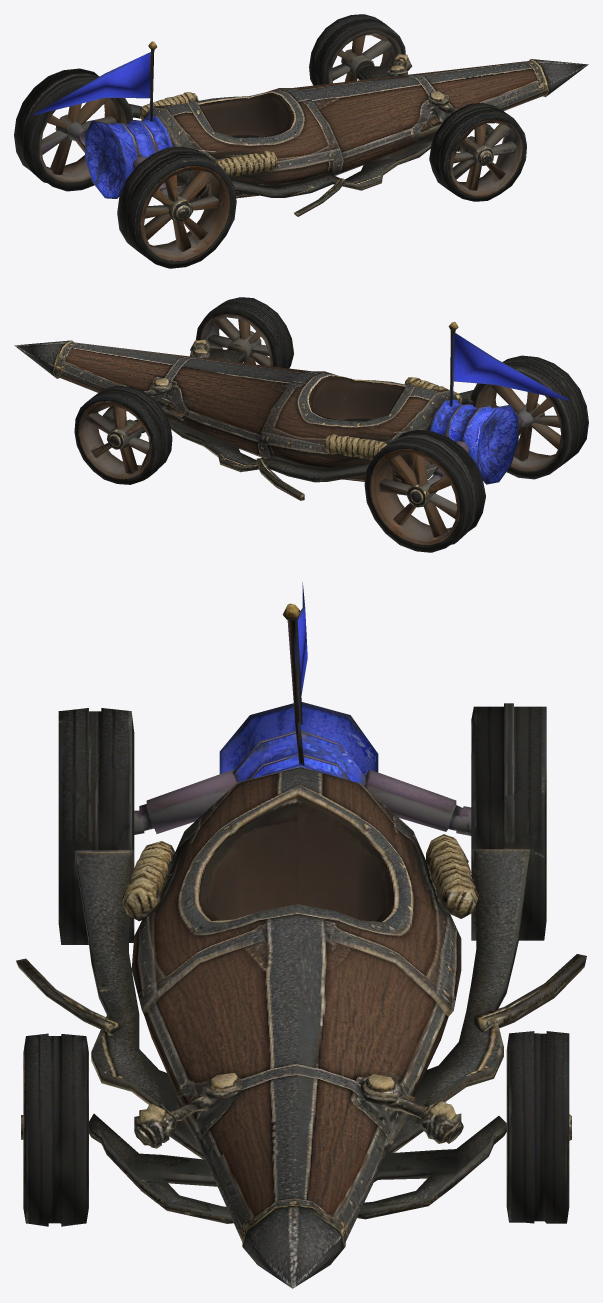
File: tripo_convert_6144d475-05fc-4dde-a6d0-bc1de5444136.fbx
3 views of the same model, one above another, from view 1: azimuth 30°, elevation 25°; view 2: azimuth 150°, elevation 25°; view 3: azimuth 270°, elevation 25° (orthographic). The views are drawn at different scales.
Parts seen in each view (by area): view 1: tripo_node_6144d475; view 2: tripo_node_6144d475; view 3: tripo_node_6144d475.
Part boxes in pixels (bbox=[...]): tripo_node_6144d475: bbox=[14, 14, 588, 268]; tripo_node_6144d475: bbox=[14, 297, 588, 552]; tripo_node_6144d475: bbox=[16, 582, 586, 1288].
Size of the model in its own units: 0.998 by 0.3027 by 0.4434.
1 material, 1 textured.
